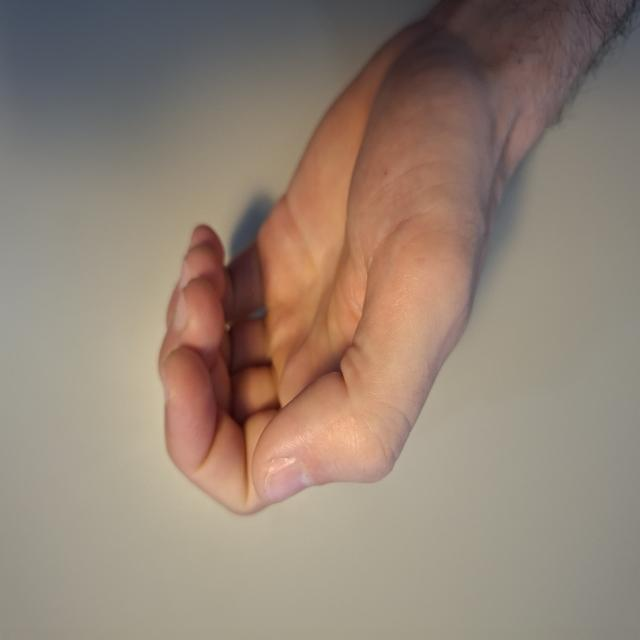glove_off: (156, 15, 544, 521)
